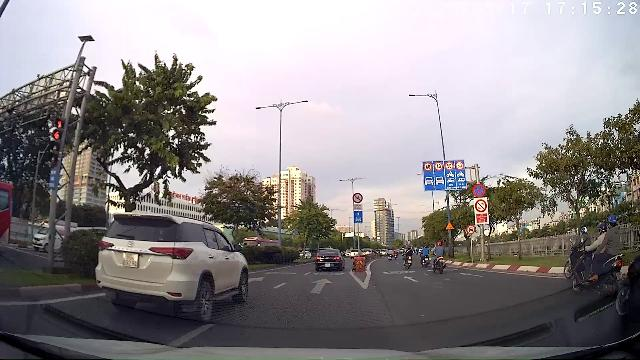103a-cam-oto: (466, 224, 476, 234)
127-toc-do-toi-da-50: (446, 162, 454, 170), (456, 162, 464, 170)
127-toc-do-toi-da-60: (434, 162, 444, 172), (423, 162, 432, 172)
130-cam-dung-va-do-xe: (472, 184, 486, 197)
